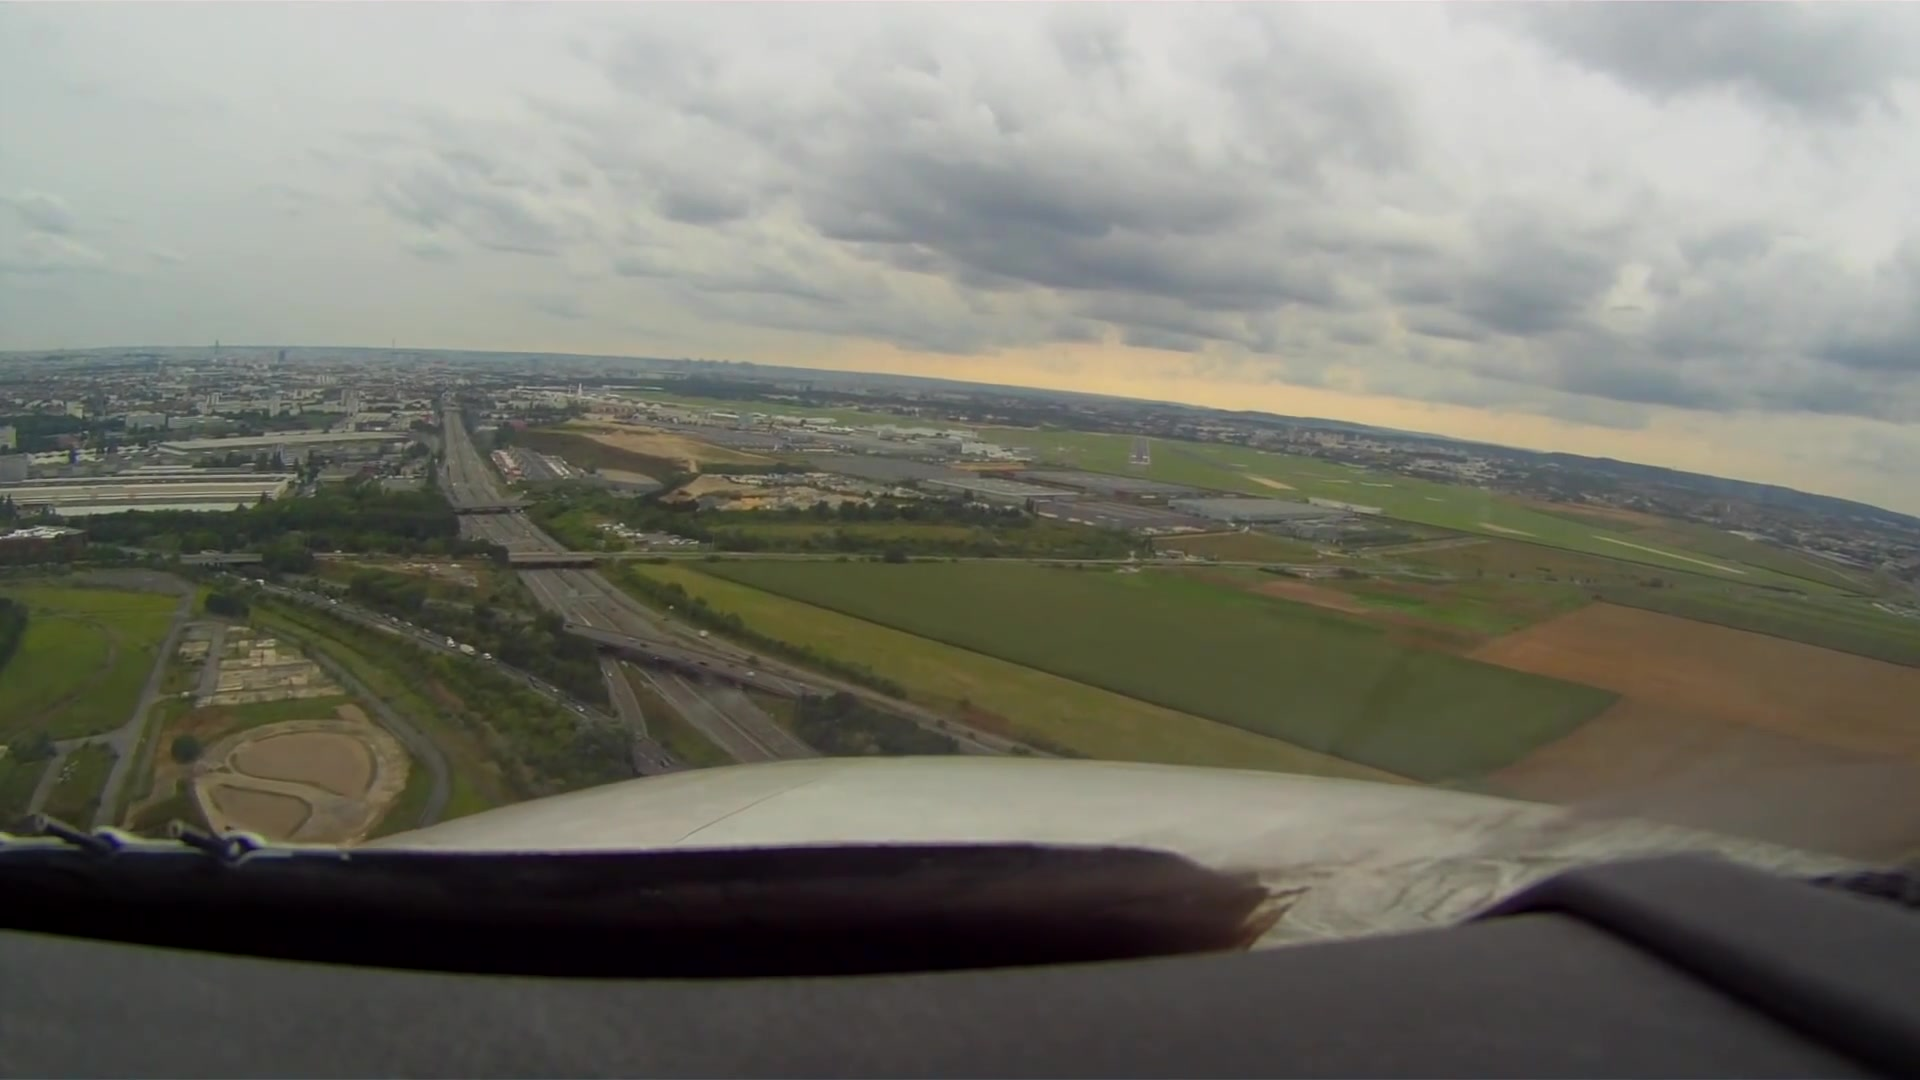runway: (1126, 433, 1151, 469)
